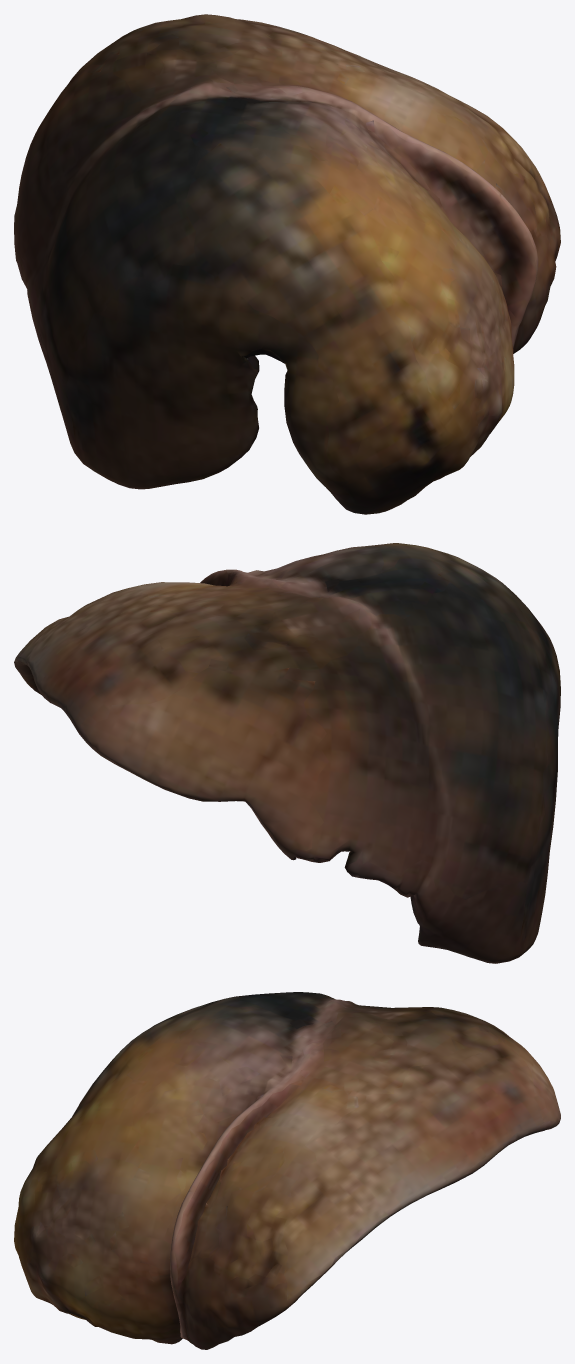
File: fattyLiver.glb
3 renders of one model, top to bottom at view 1: azimuth 30°, elevation 25°; view 2: azimuth 150°, elevation 25°; view 3: azimuth 270°, elevation 25°, orthographic. The views are drawn at different scales.
Visible parts, largest first — view 1: Liver; view 2: Liver; view 3: Liver.
Part boxes in pixels (x1,y1,x2,y2): Liver: (14,14,560,514); Liver: (14,543,560,963); Liver: (14,992,560,1349).
Bounding box in the file's own units: 0.6562 × 0.4318 × 0.723.
Materials: 1 (1 with a texture image).
